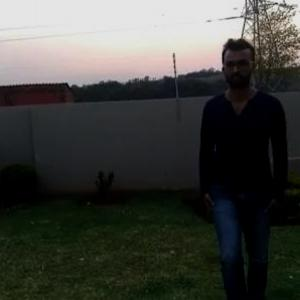follow: (200, 39, 282, 299)
